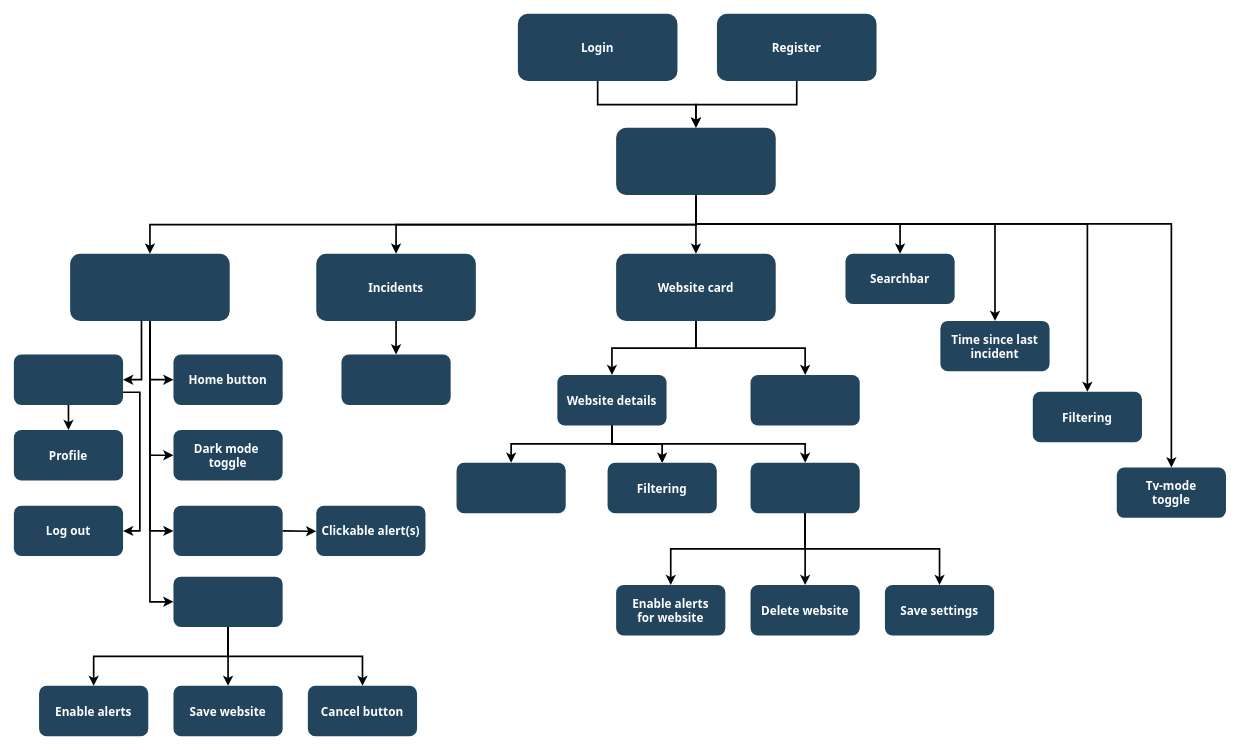
The diagram is 1240 pixels wide and 750 high, and some of its shapes have lost their labels. Here are the shapes that lost their labels. From the top down, the centre of each, then its label:
the point at 695,160: Dashboard
the point at 149,286: Navbar
the point at 68,379: Settings button
the point at 395,379: Incident list
the point at 804,400: Pin card
the point at 510,487: Check now button
the point at 804,487: Website settings
the point at 227,530: Alert dropdown
the point at 227,601: Add website
